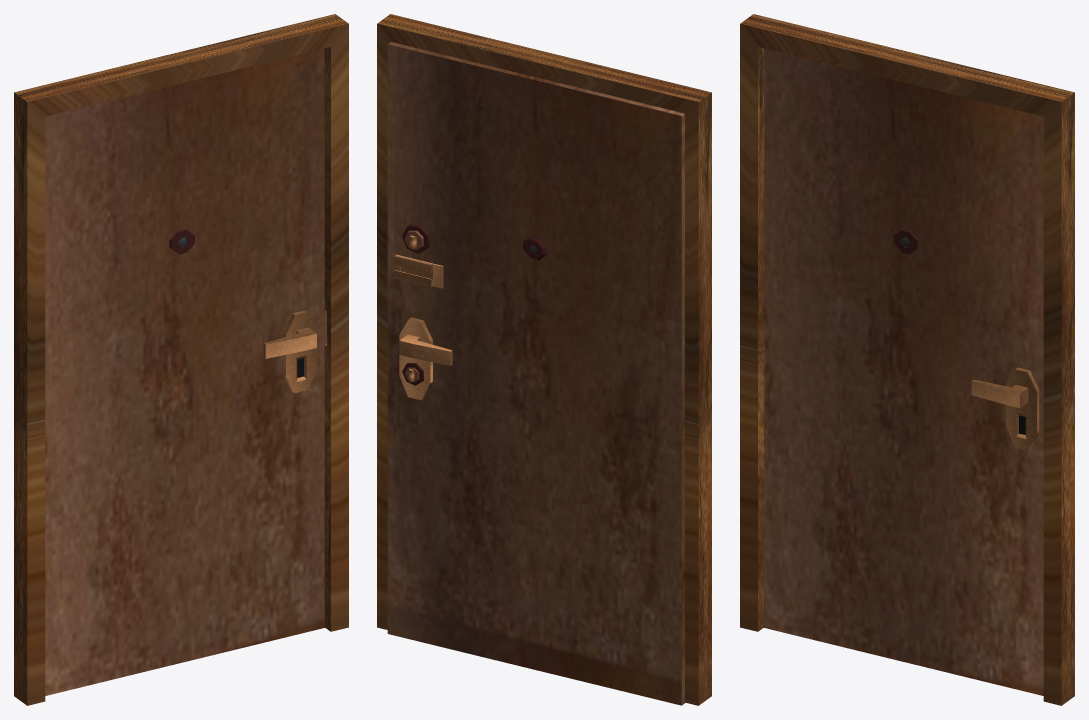
Rendered from door2.FBX.
3 renders of one model, left to right at view 1: azimuth 30°, elevation 25°; view 2: azimuth 150°, elevation 25°; view 3: azimuth 330°, elevation 25°, orthographic.
Parts seen in each view (by area): view 1: Box001, Box006, Box002, e; view 2: Box001, Box006, Box002, Box008, e; view 3: Box001, Box006, Box002, e.
Boxes of the visible parts, left/top/right/bottom form: Box001: left=45, top=48, right=326, bottom=695; Box006: left=14, top=14, right=348, bottom=705; Box002: left=283, top=310, right=316, bottom=393; e: left=263, top=327, right=316, bottom=358; Box001: left=387, top=42, right=685, bottom=705; Box006: left=377, top=14, right=711, bottom=705; Box002: left=399, top=317, right=432, bottom=400; Box008: left=394, top=254, right=443, bottom=288; e: left=399, top=334, right=452, bottom=365; Box001: left=764, top=48, right=1043, bottom=695; Box006: left=740, top=14, right=1074, bottom=705; Box002: left=1006, top=367, right=1039, bottom=450; e: left=971, top=379, right=1028, bottom=408.
Size of the model in its own units: 109 by 196 by 19.17.
Materials: 9 (9 with a texture image).
